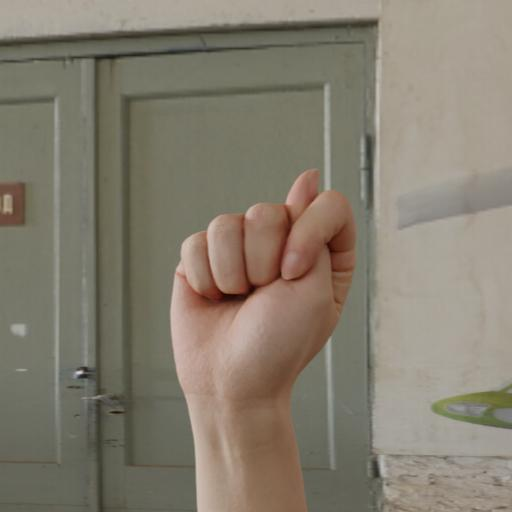T: (152, 161, 372, 443)
